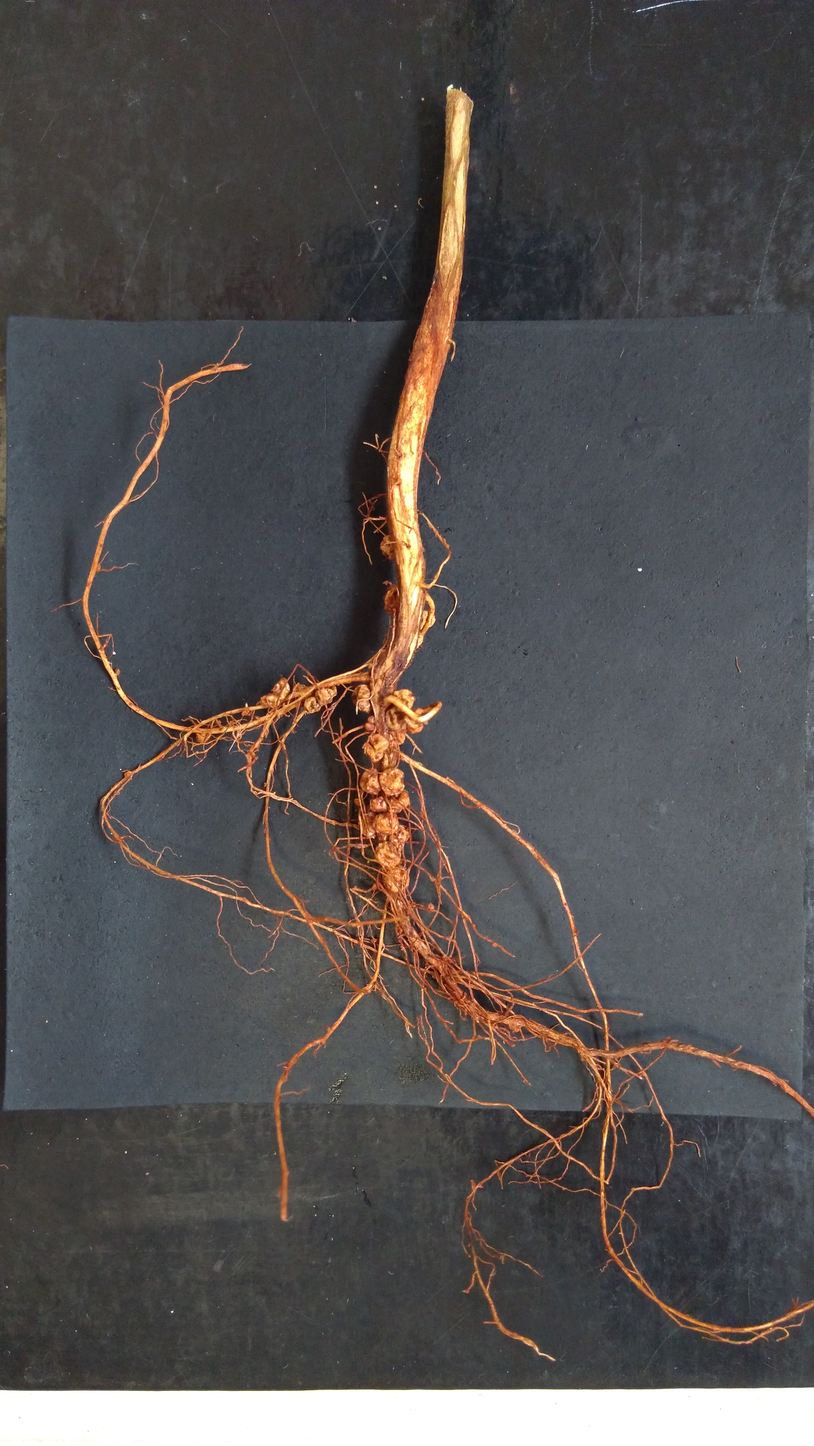nodule: (361, 733, 391, 764), (382, 864, 411, 893), (375, 839, 401, 869), (378, 767, 405, 795), (349, 682, 371, 714), (359, 766, 382, 796), (382, 584, 400, 619), (378, 534, 399, 564), (359, 804, 376, 841), (372, 813, 399, 836), (313, 684, 339, 706), (270, 676, 291, 699), (302, 696, 323, 719), (417, 610, 438, 631), (394, 689, 415, 710), (392, 822, 410, 843), (384, 707, 401, 729), (368, 795, 388, 813), (387, 794, 403, 814), (407, 718, 424, 734), (398, 788, 411, 808), (194, 731, 213, 744), (365, 715, 375, 731), (112, 667, 125, 679), (353, 797, 363, 807), (426, 902, 435, 912), (123, 770, 132, 779)
